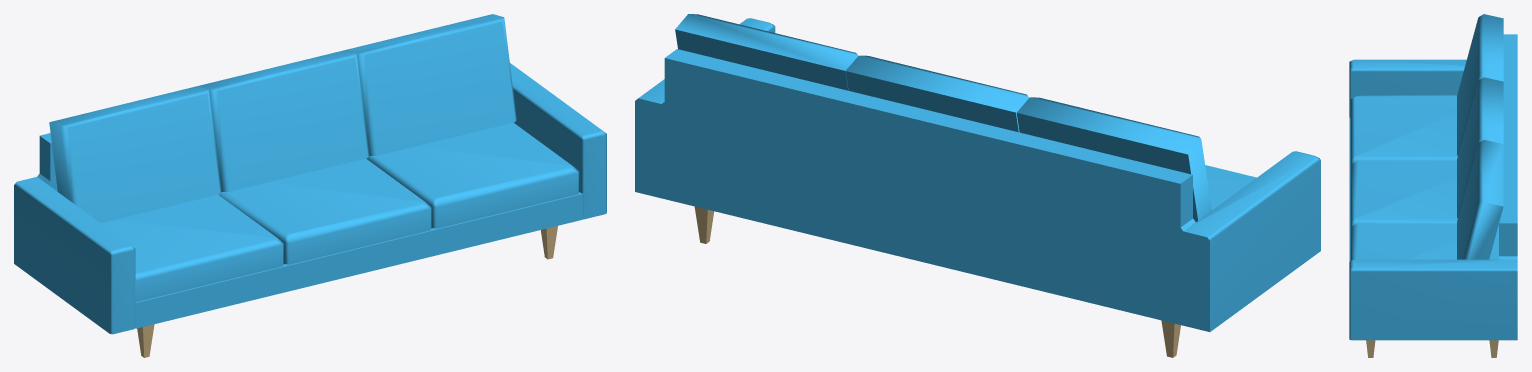
3 renders of one model, left to right at view 1: azimuth 30°, elevation 25°; view 2: azimuth 150°, elevation 25°; view 3: azimuth 270°, elevation 25°, orthographic. The views are drawn at different scales.
Parts seen in each view (by area): view 1: frame, rest_3, rest_2, rest_1, seat_2, seat_1, base, seat_3; view 2: frame, rest_3, rest_2, rest_1, seat_3; view 3: frame, seat_3, seat_2, rest_1, seat_1, rest_3, rest_2, base.
Part boxes in pixels (<box>): frame: <box>14,63,606,334</box>; rest_3: <box>49,86,221,223</box>; rest_2: <box>198,50,369,191</box>; rest_1: <box>346,14,516,155</box>; seat_2: <box>219,158,431,264</box>; seat_1: <box>366,122,579,228</box>; base: <box>135,192,583,328</box>; seat_3: <box>101,194,283,302</box>; frame: <box>635,18,1320,331</box>; rest_3: <box>1016,97,1211,221</box>; rest_2: <box>845,55,1028,132</box>; rest_1: <box>675,14,858,90</box>; seat_3: <box>1205,165,1256,210</box>; frame: <box>1349,34,1517,340</box>; seat_3: <box>1350,95,1457,164</box>; seat_2: <box>1350,160,1457,226</box>; rest_1: <box>1457,140,1503,259</box>; seat_1: <box>1350,223,1497,260</box>; rest_3: <box>1457,14,1503,155</box>; rest_2: <box>1457,77,1503,218</box>; base: <box>1349,117,1498,261</box>.
Size of the model in its own units: 13.24 by 4.78 by 4.47.
1 material, 1 textured.
